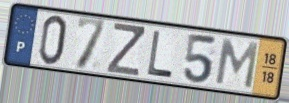0: (36, 14, 69, 67)
5: (181, 32, 218, 86)
7: (75, 14, 110, 73)
L: (146, 29, 175, 80)
M: (213, 37, 261, 91)
Z: (105, 21, 147, 78)
